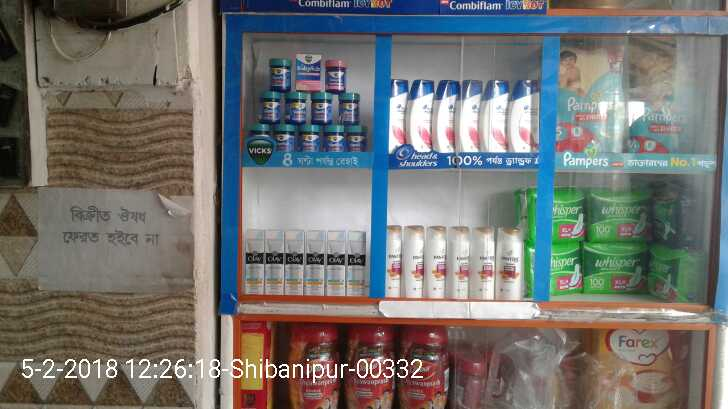vicks: (247, 50, 368, 155)
